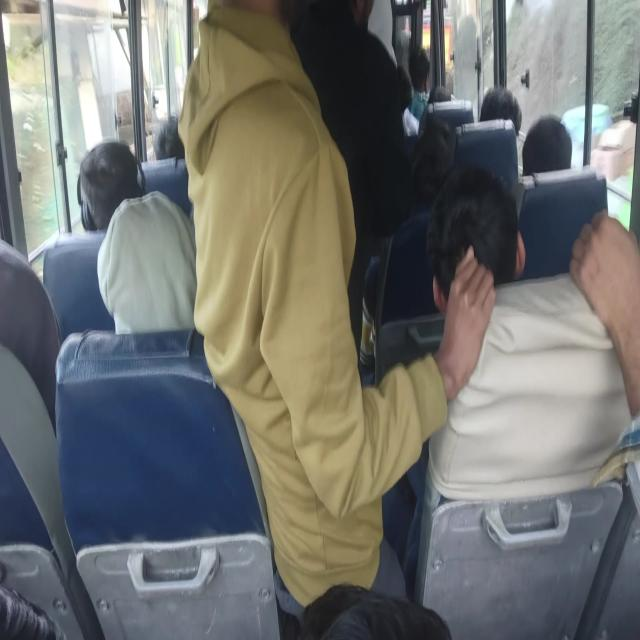person: (198, 0, 366, 416), (583, 224, 640, 573), (318, 0, 410, 156), (287, 582, 508, 640), (443, 188, 529, 328), (111, 204, 200, 314), (0, 287, 71, 406), (526, 114, 586, 204), (81, 138, 137, 214), (0, 592, 84, 640), (407, 132, 452, 198), (485, 78, 521, 146), (154, 119, 194, 152), (417, 41, 437, 77), (431, 82, 457, 107)
